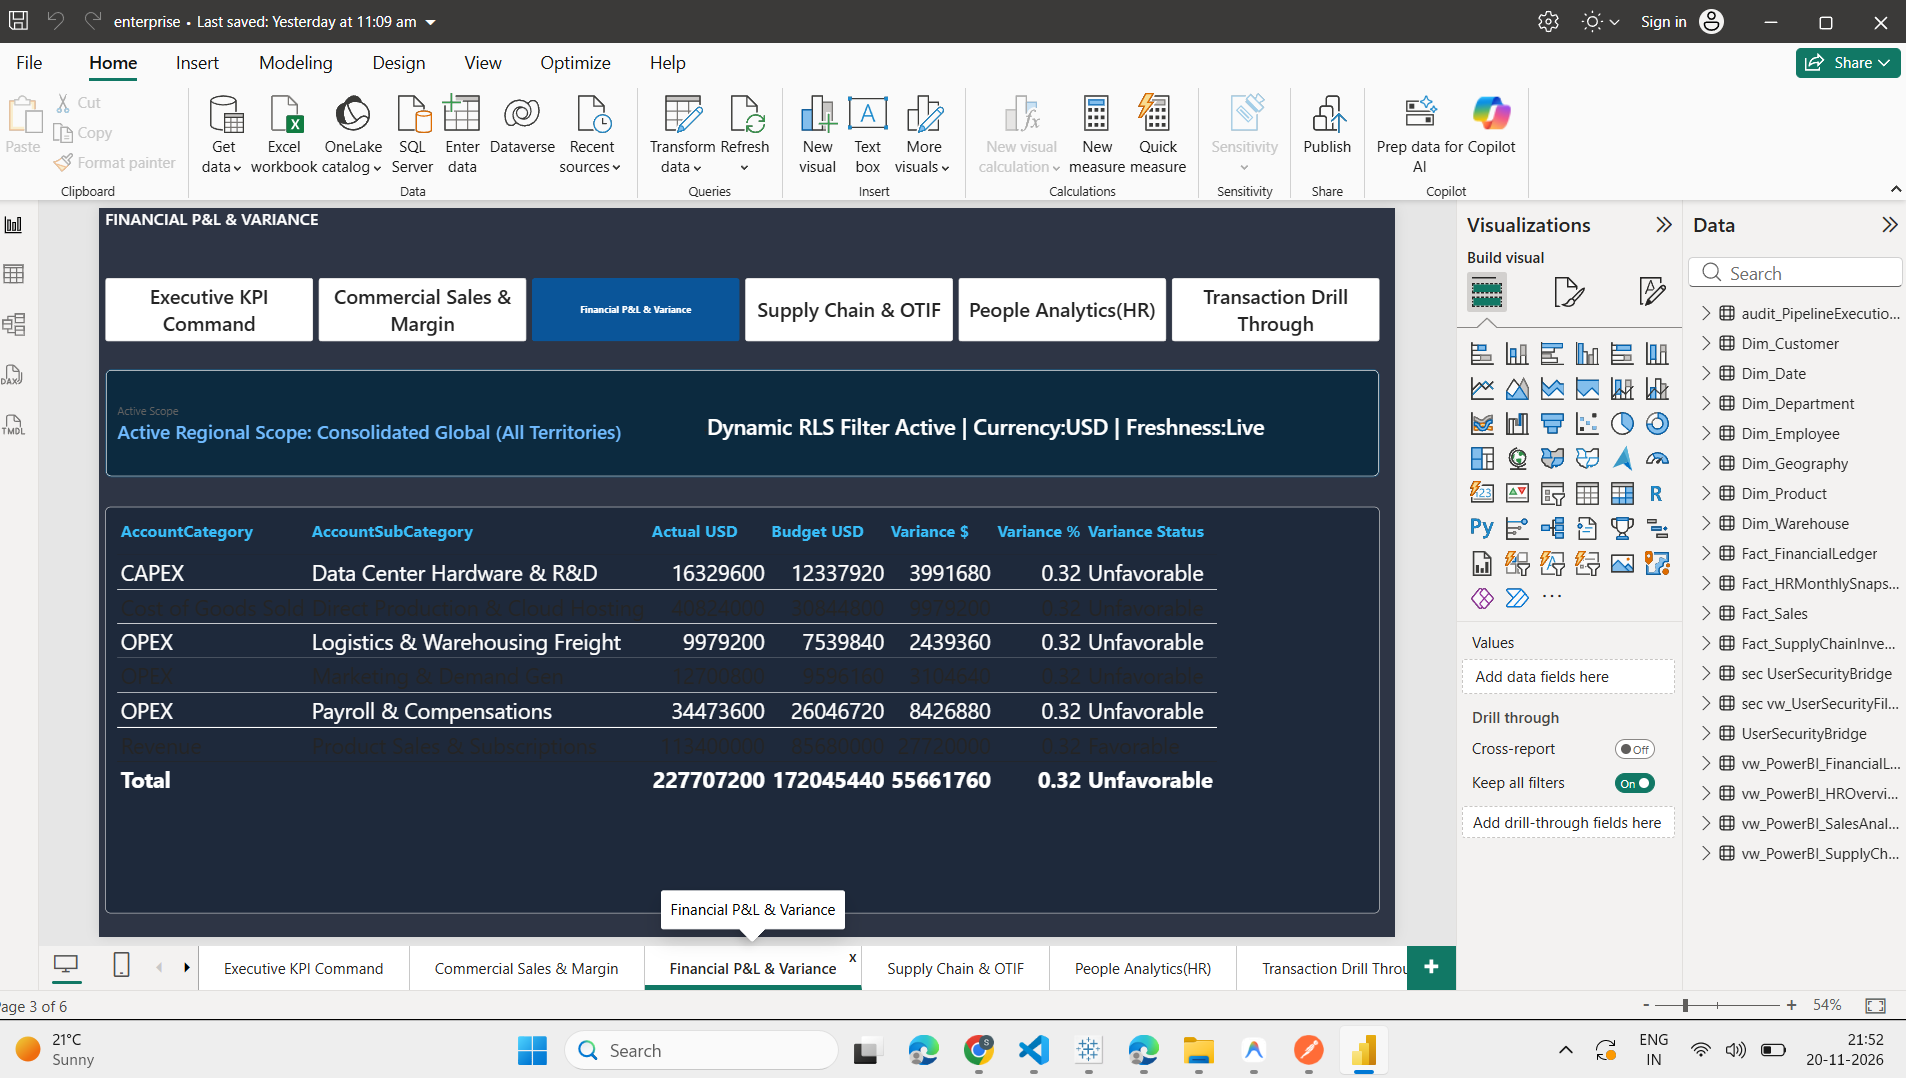

This screenshot's page, from the dashboard's own definition file:
{"tool":"powerbi","page":{"name":"Financial P&L & Variance","canvas":[1920,1080],"ordinal":2},"visuals":[{"type":"textbox","box":[10,0,626,80],"z":0},{"type":"pageNavigator","box":[10,104,1888,94],"z":1000},{"type":"cardVisual","fields":{"Data":["Fact_Sales.Active Scope"]},"box":[10,238,1888,160],"z":2000},{"type":"textbox","box":[896,302,1002,54],"z":3000},{"type":"tableEx","fields":{"Values":["vw_PowerBI_FinancialLedger.AccountCategory","vw_PowerBI_FinancialLedger.AccountSubCategory","Fact_Sales.Actual USD","Fact_Sales.Budget USD","Fact_Sales.Variance $","Fact_Sales.Variance %","Fact_Sales.Variance Status"]},"box":[10,442,1888,602],"z":4000}]}

Visuals, with their boxes on the page's 1920x1080 design canvas (x1, y1, x2, y2). These are canvas units, not pixel positions in the 1906x1078 screenshot, which may show the page scaled, cropped or inside an application window:
textbox: [x1=10, y1=0, x2=636, y2=80]
pageNavigator: [x1=10, y1=104, x2=1898, y2=198]
cardVisual - Fact_Sales.Active Scope: [x1=10, y1=238, x2=1898, y2=398]
textbox: [x1=896, y1=302, x2=1898, y2=356]
tableEx - vw_PowerBI_FinancialLedger.AccountCategory x vw_PowerBI_FinancialLedger.AccountSubCategory: [x1=10, y1=442, x2=1898, y2=1044]
